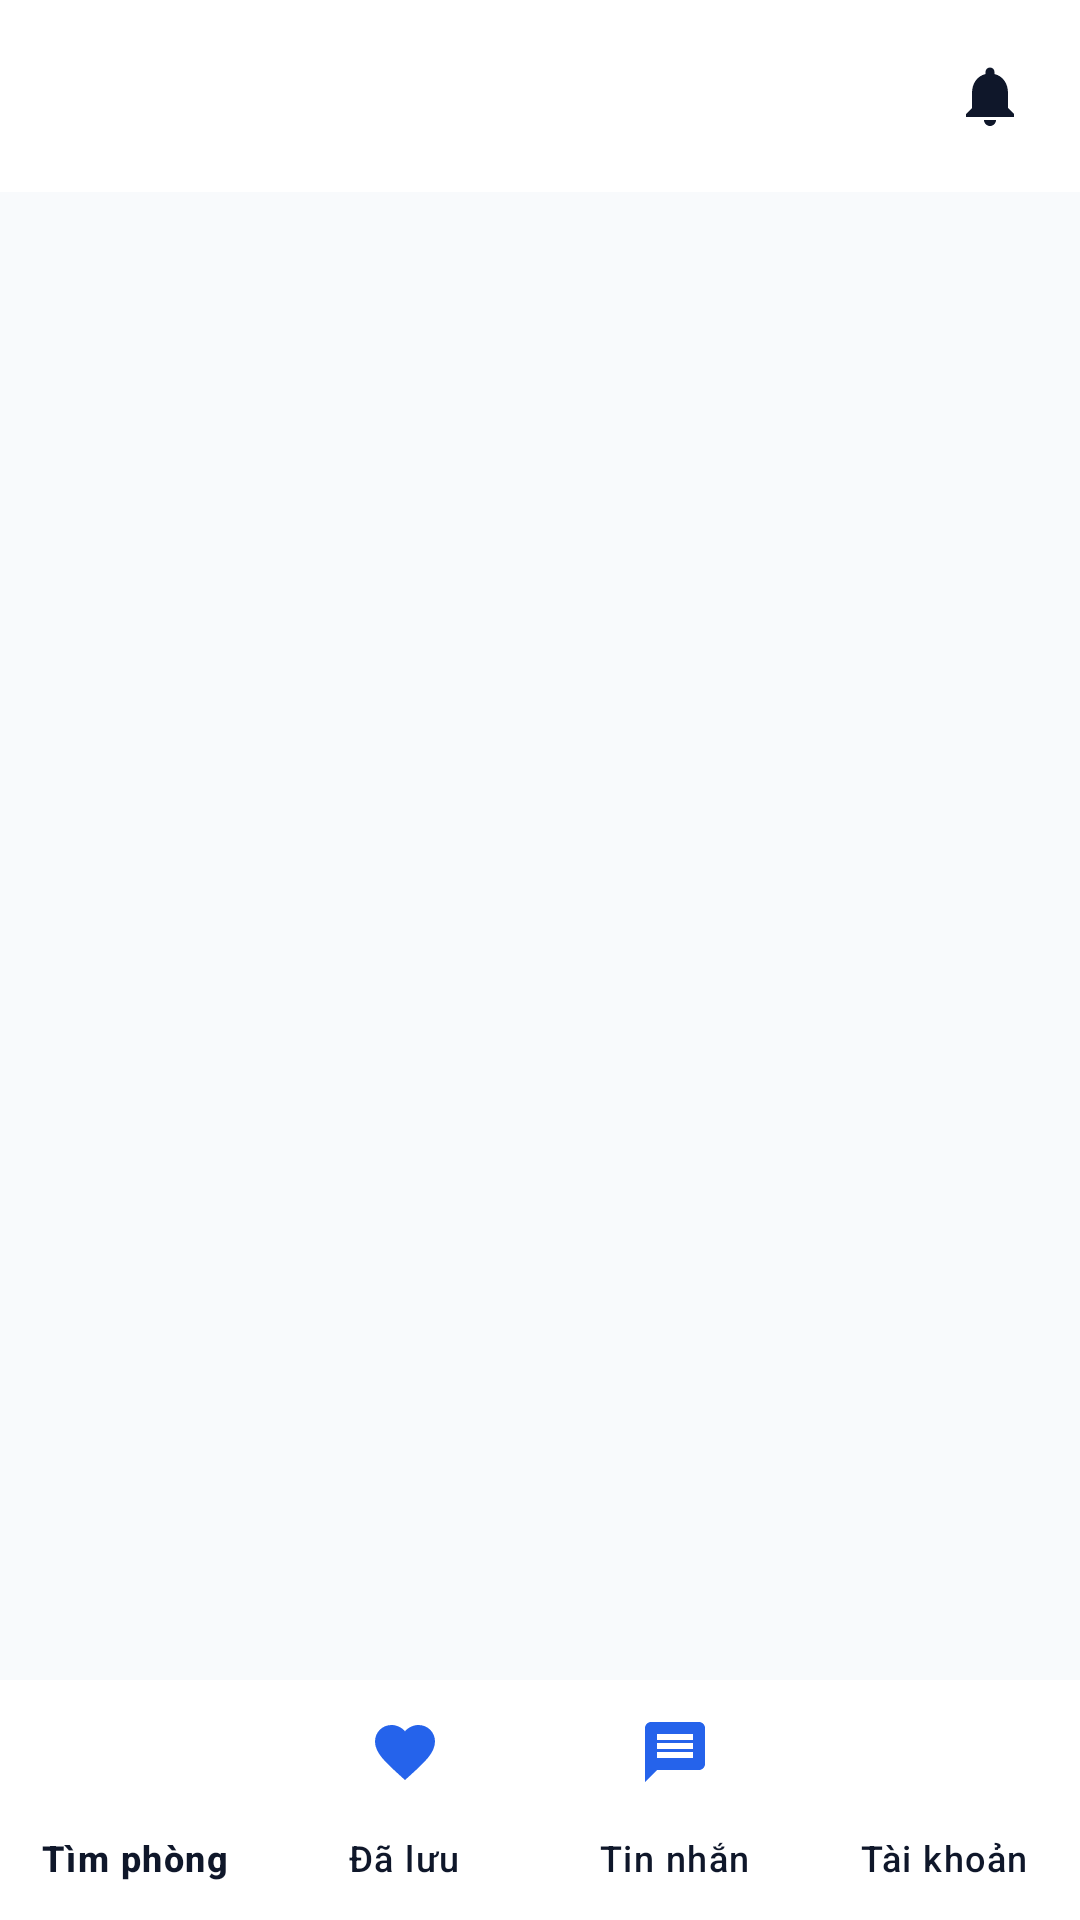

Icons on this 1080 x 1920 Android screen, each with its box as (x1, y1, x2, y2):
bell: (966, 67, 1014, 126)
